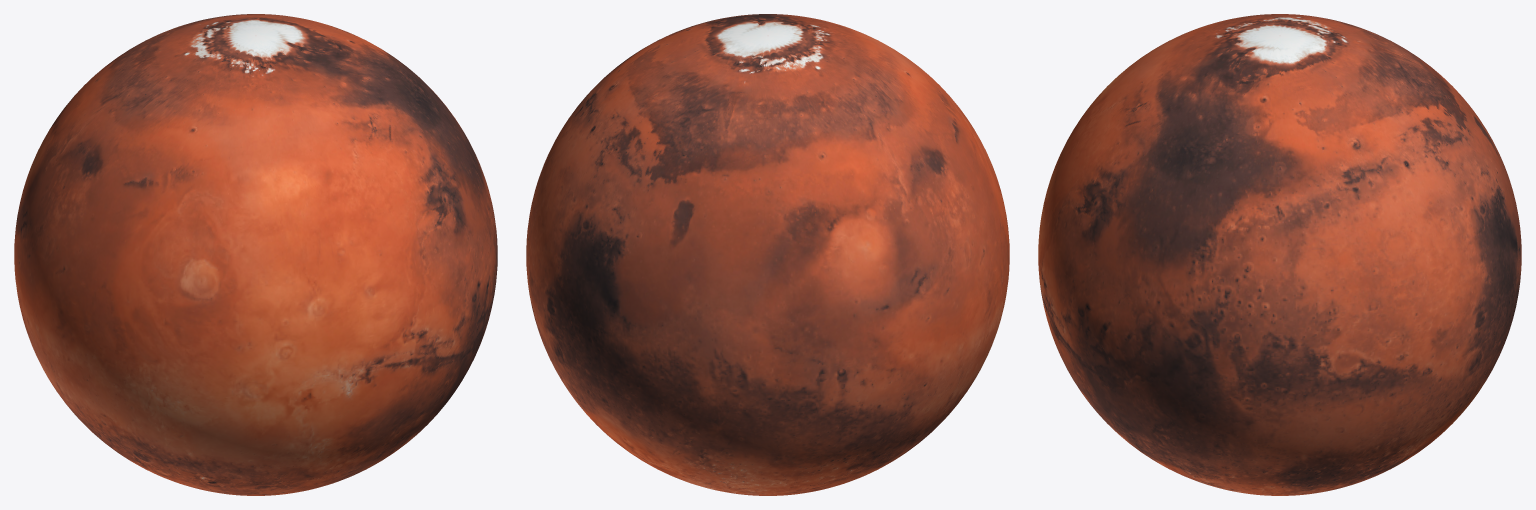
Rendered from mars.glb.
3 renders of one model, left to right at view 1: azimuth 30°, elevation 25°; view 2: azimuth 150°, elevation 25°; view 3: azimuth 270°, elevation 25°, orthographic.
Visible parts, largest first — view 1: Mars; view 2: Mars; view 3: Mars.
Part boxes in pixels (x1,y1,x2,y2): Mars: (14, 14, 497, 495); Mars: (526, 14, 1009, 495); Mars: (1038, 14, 1521, 495).
Bounding box in the file's own units: 0.5 × 0.5 × 0.5.
1 material, 1 textured.
